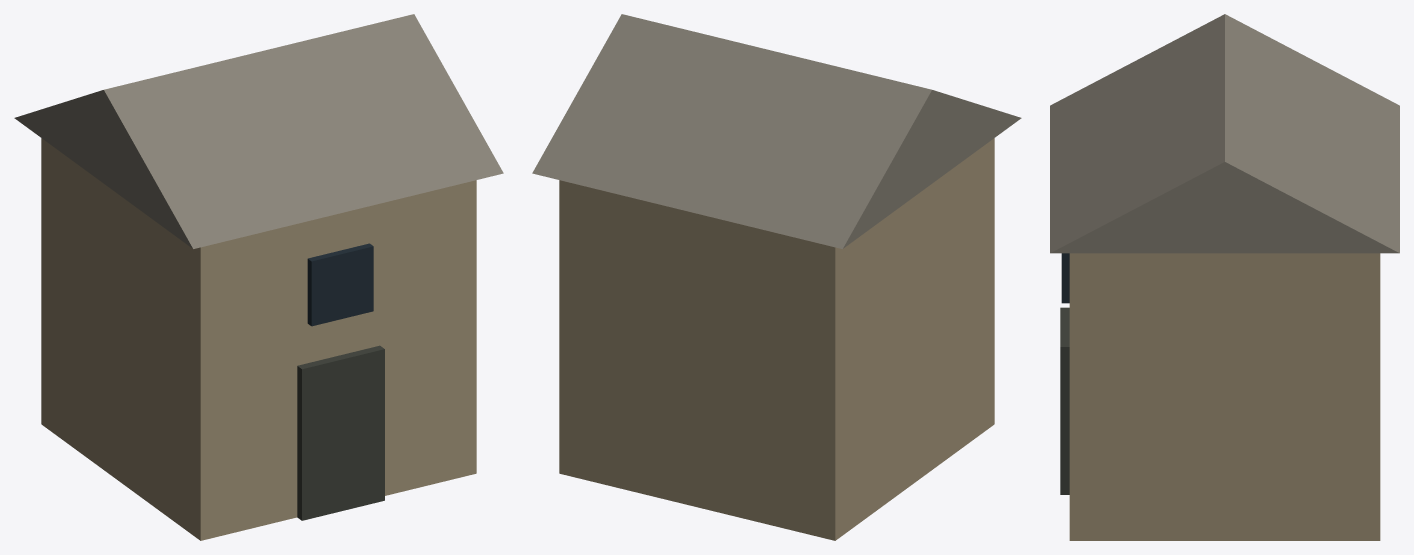
The model's file is RF_Prop_BuildingB_Intact.glb.
3 views of the same model, side by side, from view 1: azimuth 30°, elevation 25°; view 2: azimuth 150°, elevation 25°; view 3: azimuth 270°, elevation 25° (orthographic). The views are drawn at different scales.
Visible parts, largest first — view 1: RF_Prop_BuildingB_Intact; view 2: RF_Prop_BuildingB_Intact; view 3: RF_Prop_BuildingB_Intact.
Part boxes in pixels (<box>): RF_Prop_BuildingB_Intact: <box>14,14,503,540</box>; RF_Prop_BuildingB_Intact: <box>532,14,1021,540</box>; RF_Prop_BuildingB_Intact: <box>1050,14,1399,540</box>.
Size of the model in its own units: 4.5 by 5.5 by 4.5.
